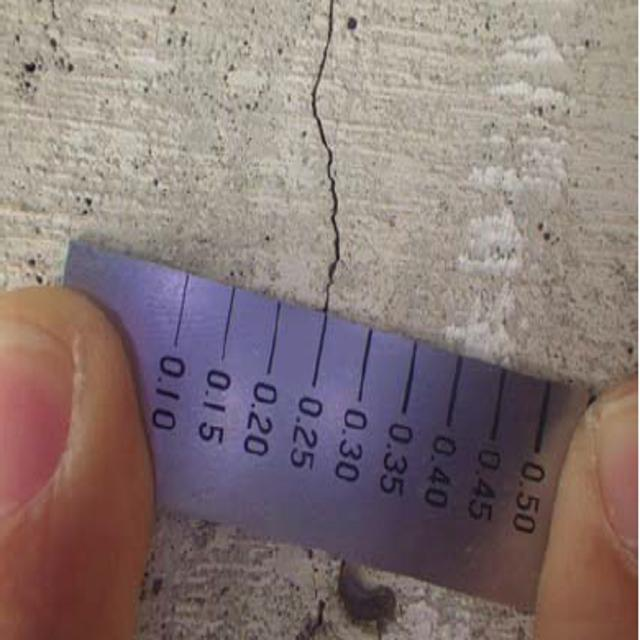crack: (290, 3, 376, 308)
